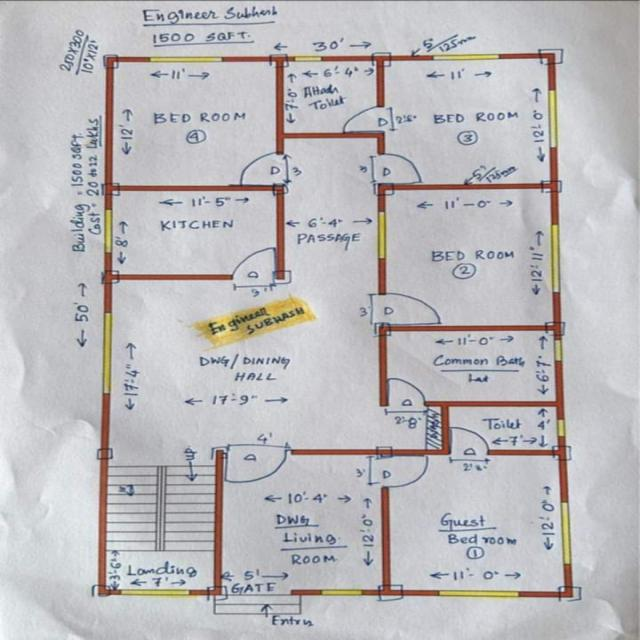column: (557, 584, 584, 603), (538, 48, 564, 64), (550, 444, 576, 460), (89, 582, 112, 600), (540, 178, 565, 194), (378, 584, 403, 600), (100, 53, 123, 70), (205, 446, 231, 461), (544, 320, 566, 337), (373, 322, 396, 338), (94, 446, 116, 462), (372, 182, 396, 196), (376, 445, 398, 460), (205, 584, 227, 599), (270, 181, 292, 196), (267, 54, 290, 68), (101, 182, 122, 196), (273, 272, 294, 286), (371, 52, 391, 66), (101, 270, 119, 284)
